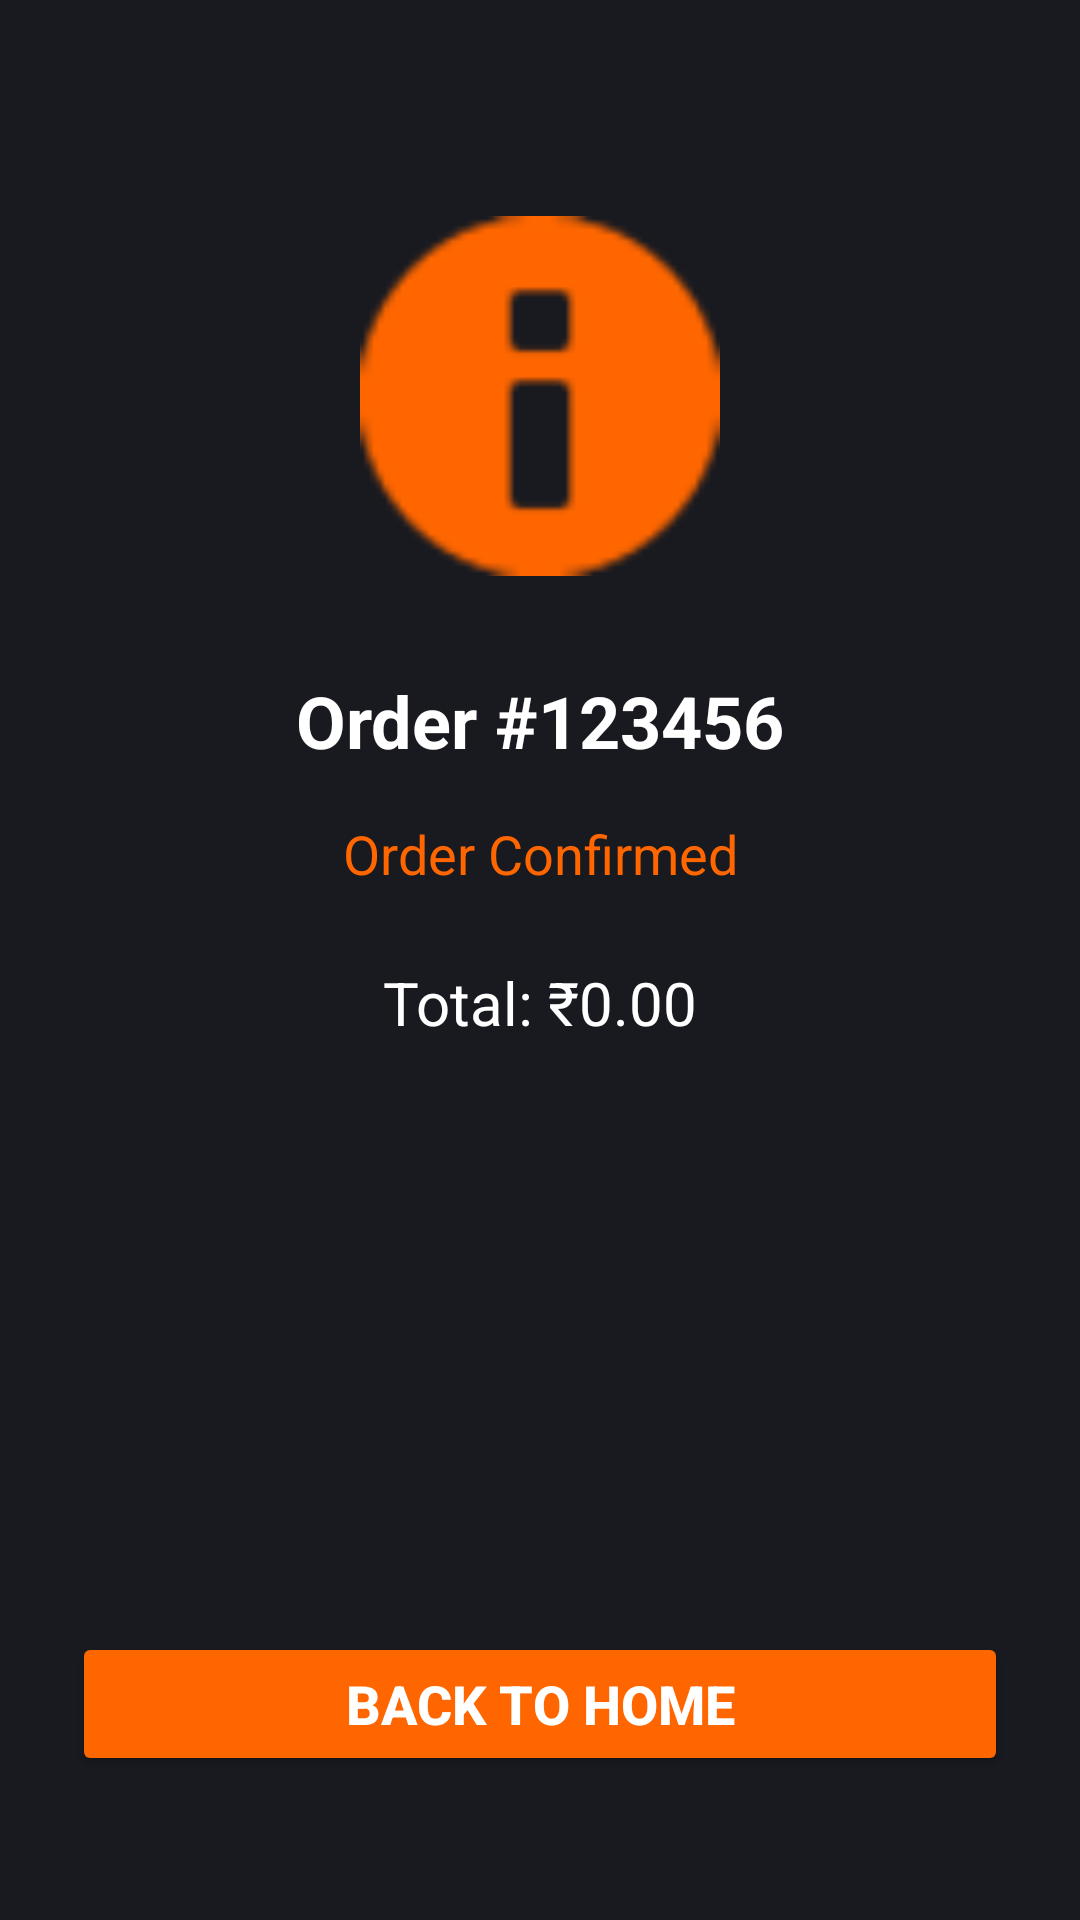

Where to tap for icons on this 1080px×1920px app screen, as (x,y):
info: (540,396)
